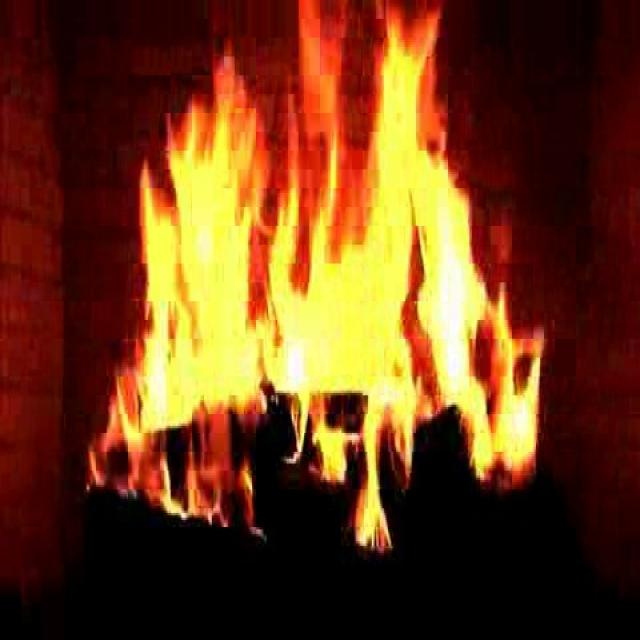fire: (140, 59, 524, 537)
